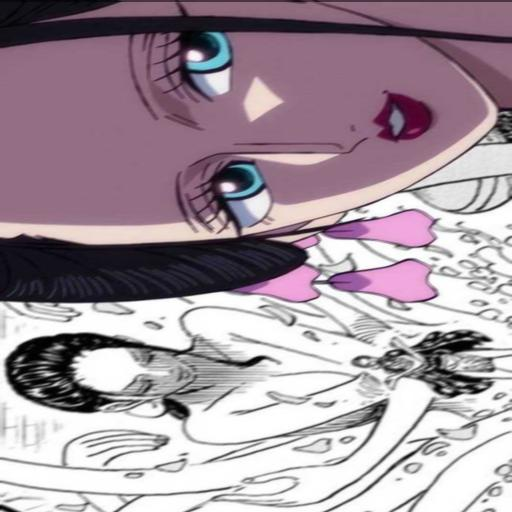NicoRobin: (25, 0, 512, 283), (0, 293, 347, 467), (351, 308, 512, 398)
